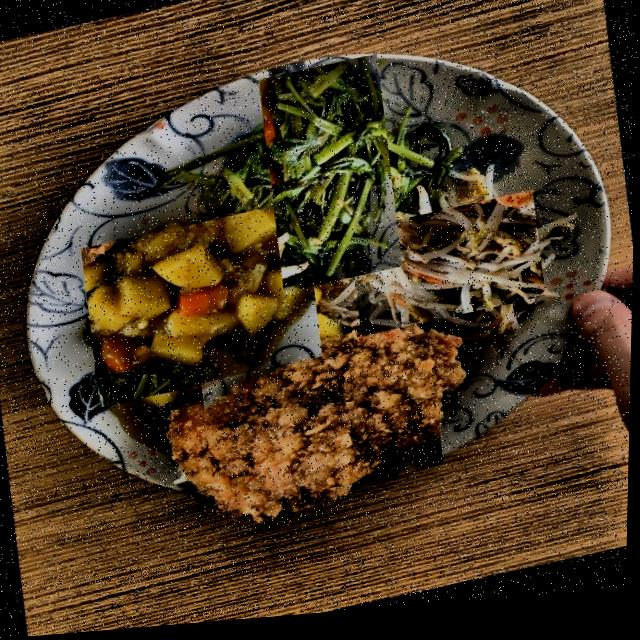Food: (78, 203, 328, 412), (200, 339, 448, 520), (235, 77, 428, 280), (347, 198, 549, 345)
